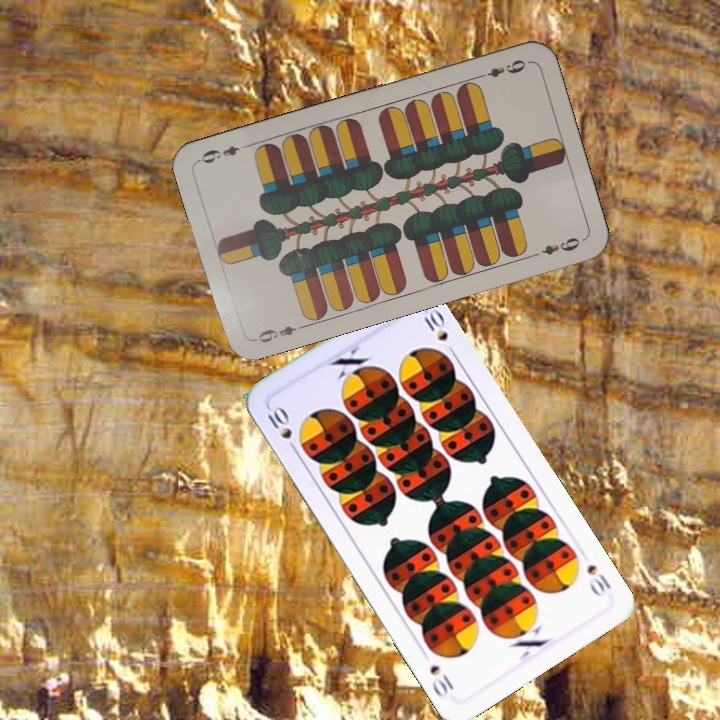E9: (473, 55, 529, 81), (249, 321, 307, 346)
S10: (262, 402, 301, 456), (582, 560, 614, 599)
